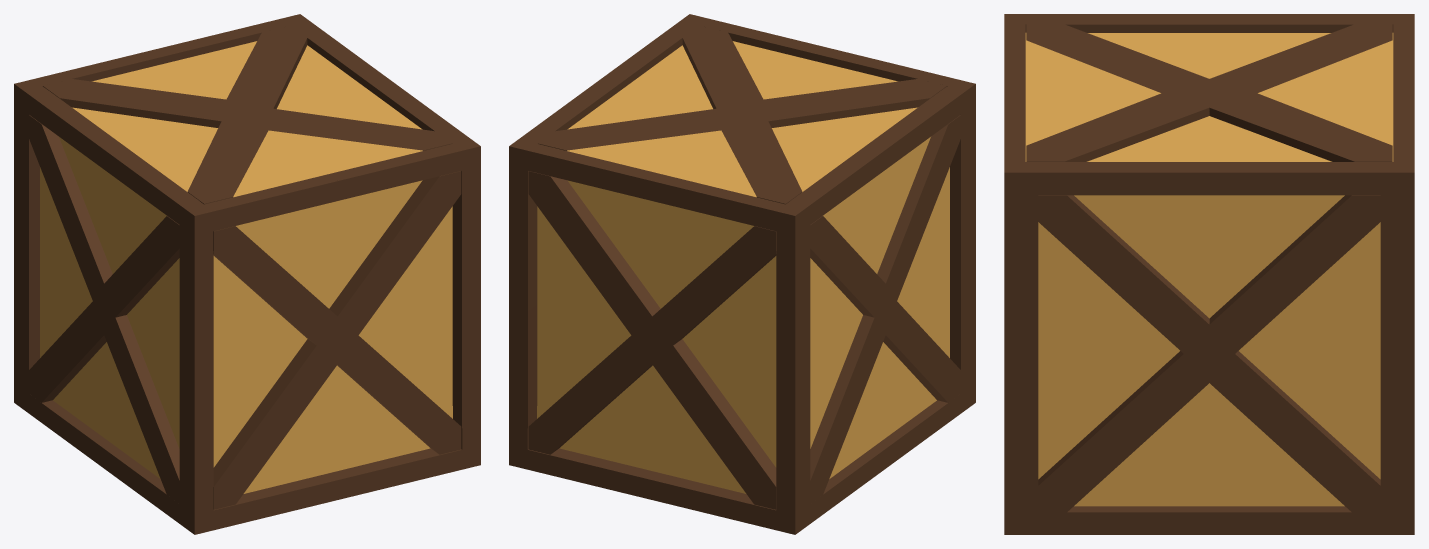
Rendered from boxsmall.fbx.
3 renders of one model, left to right at view 1: azimuth 30°, elevation 25°; view 2: azimuth 150°, elevation 25°; view 3: azimuth 270°, elevation 25°, orthographic. The views are drawn at different scales.
Visible parts, largest first — view 1: box; view 2: box; view 3: box.
Part boxes in pixels (x1,y1,x2,y2): box: (14,14,480,534); box: (509,14,975,534); box: (1004,14,1414,534).
Size of the model in its own units: 217 by 231 by 237.
